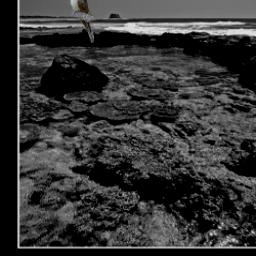Cuckoo: (66, 0, 95, 44)
